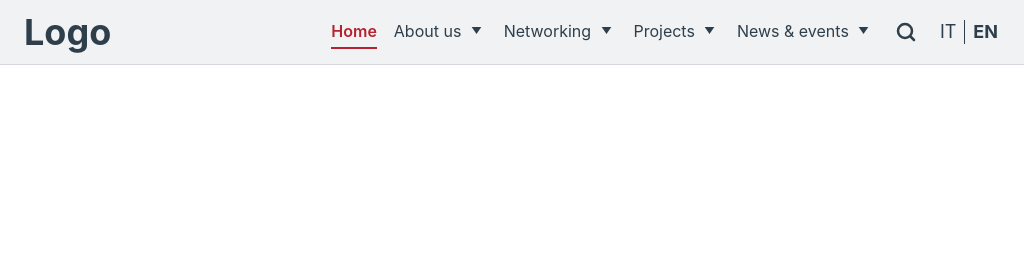
Test: HeaderNav › opens and closes a dropdown with the button and Escape
Click the button named "About us submenu" at (476, 31), box [466, 19, 486, 43]
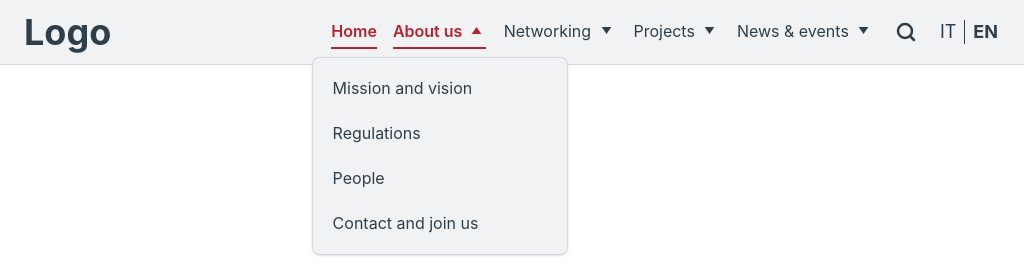
Expected: the button named "About us submenu" is expanded, [466, 19, 486, 43]
Press Escape
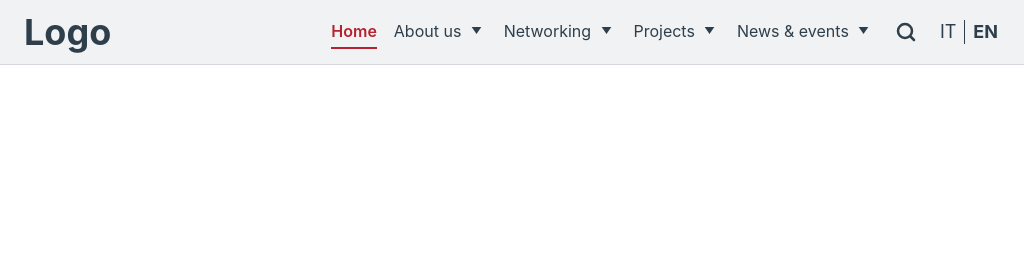
Expected: the button named "About us submenu" is collapsed, [466, 19, 486, 43]
